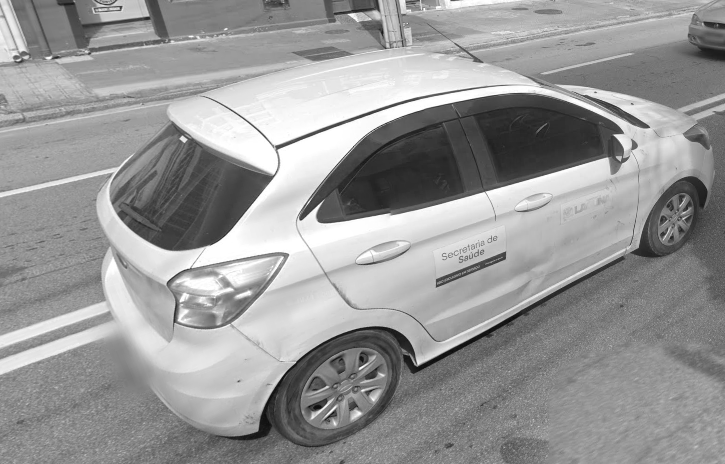car: (96, 45, 716, 446)
